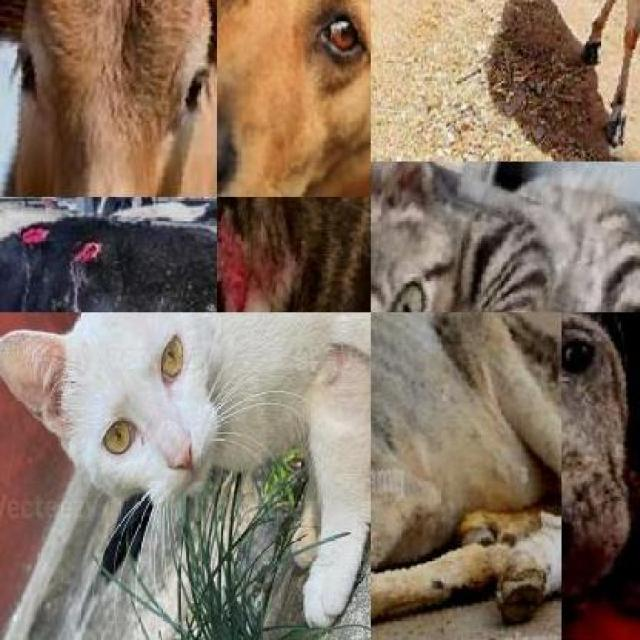cat: (0, 312, 371, 620), (371, 162, 640, 312)
cow: (370, 312, 562, 640), (0, 0, 217, 197), (477, 0, 640, 162), (0, 197, 217, 312)
dog: (217, 0, 371, 197), (561, 312, 640, 639)
injured: (315, 312, 371, 388), (217, 251, 271, 312), (34, 235, 75, 303), (228, 197, 262, 226), (0, 224, 9, 290), (156, 297, 184, 312)
